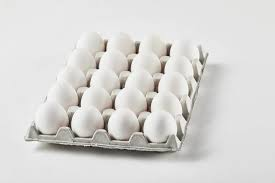eggs: (71, 106, 107, 139), (96, 45, 132, 75), (35, 100, 67, 132), (158, 73, 191, 101), (153, 90, 184, 119), (83, 81, 114, 110), (115, 85, 147, 113), (46, 79, 79, 106), (149, 109, 171, 148), (110, 107, 134, 142), (139, 31, 167, 61), (171, 39, 202, 66), (129, 67, 154, 98), (56, 65, 87, 90), (165, 55, 192, 83), (109, 29, 136, 57), (72, 29, 102, 54), (133, 50, 160, 77), (94, 68, 123, 92), (69, 52, 97, 72)
